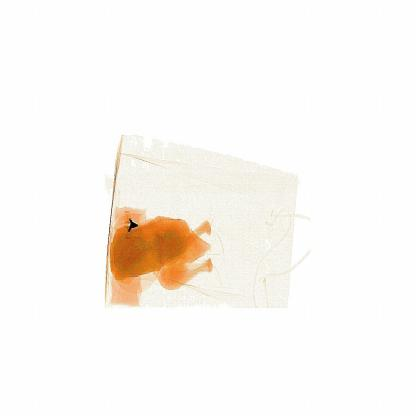gun: (108, 201, 150, 239)
